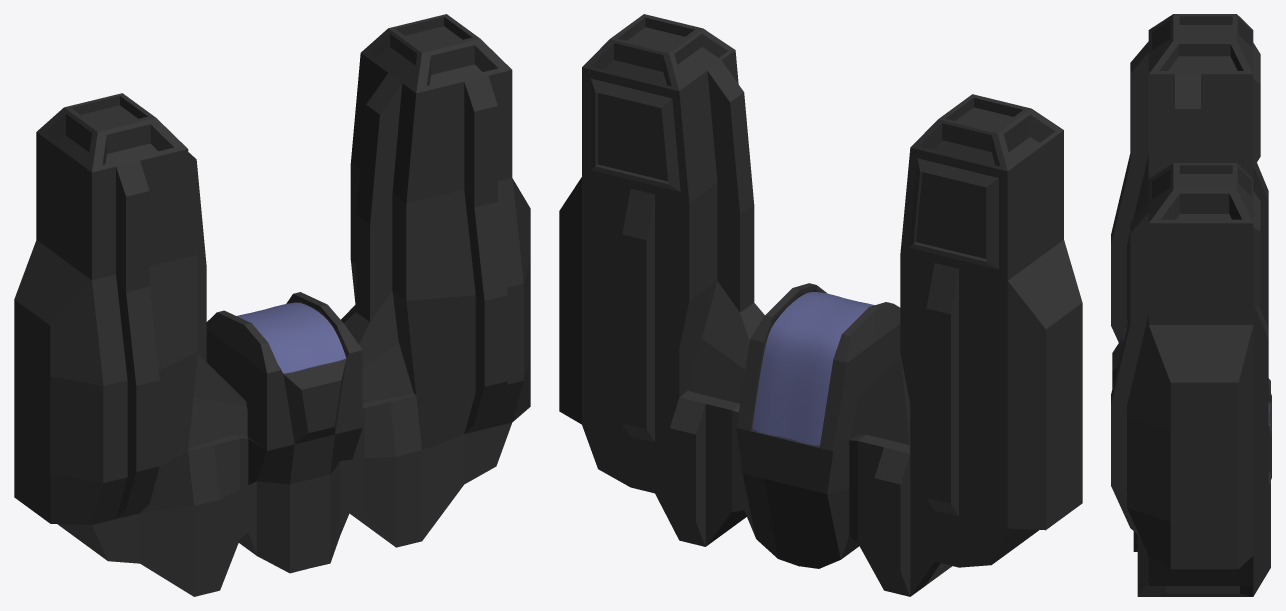
File: Ships.fbx
3 renders of one model, left to right at view 1: azimuth 30°, elevation 25°; view 2: azimuth 150°, elevation 25°; view 3: azimuth 270°, elevation 25°, orthographic. The views are drawn at different scales.
Parts seen in each view (by area): view 1: Cube.001; view 2: Cube.001; view 3: Cube.001.
Part boxes in pixels (<box>): Cube.001: <box>14,14,530,596</box>; Cube.001: <box>559,14,1082,596</box>; Cube.001: <box>1111,14,1271,596</box>.
Size of the model in its own units: 1150 by 1093 by 354.
